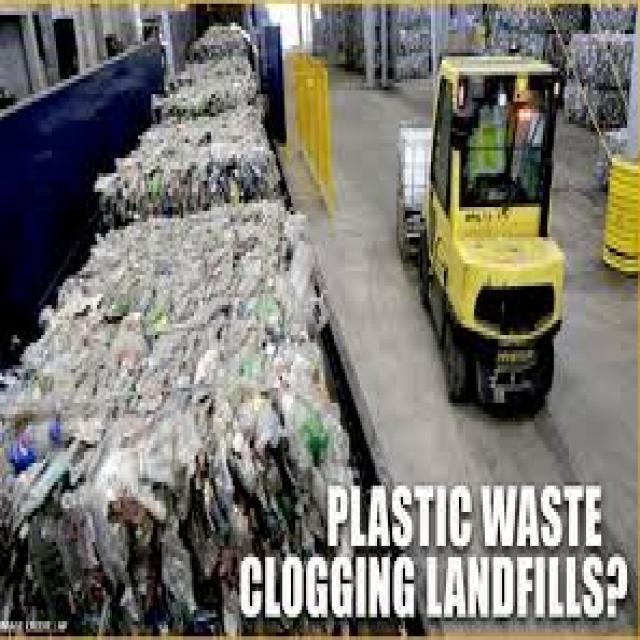heap: (133, 261, 314, 521)
